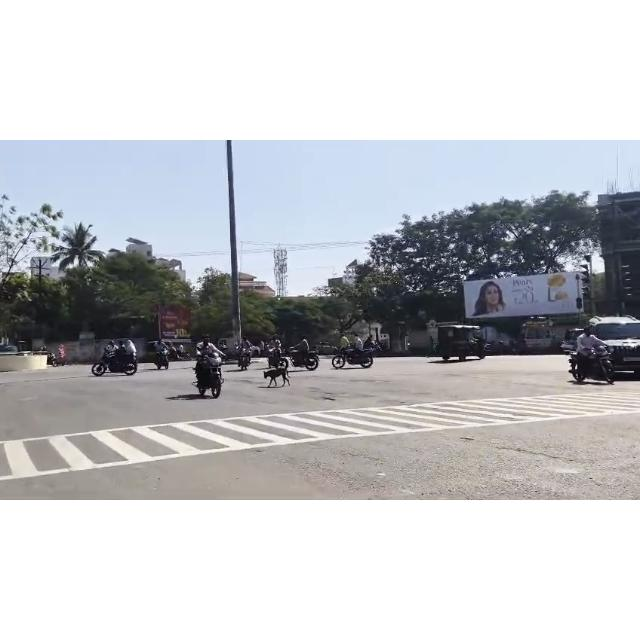auto: (438, 323, 494, 361)
car: (586, 315, 640, 381)
